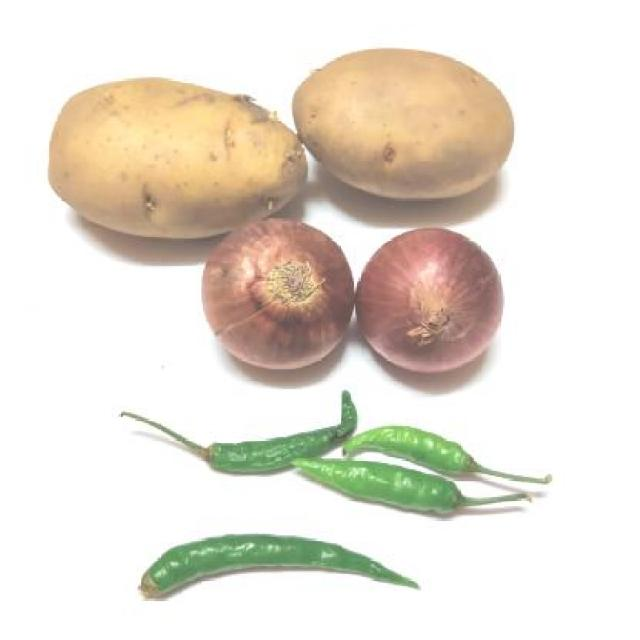Pepper: (297, 417, 569, 525), (115, 526, 422, 612), (129, 386, 391, 472)
onion: (184, 212, 358, 378), (344, 226, 510, 392)
potato: (31, 78, 332, 240), (291, 47, 555, 210)
